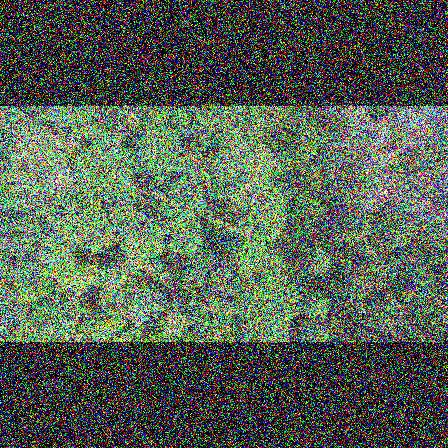Dead: (338, 134, 384, 165), (348, 114, 391, 144), (332, 121, 369, 150), (0, 300, 32, 333), (394, 113, 430, 135), (46, 168, 83, 186), (385, 186, 427, 201), (351, 203, 379, 217), (347, 106, 368, 124), (401, 106, 430, 119), (418, 210, 448, 221), (432, 164, 448, 178)
